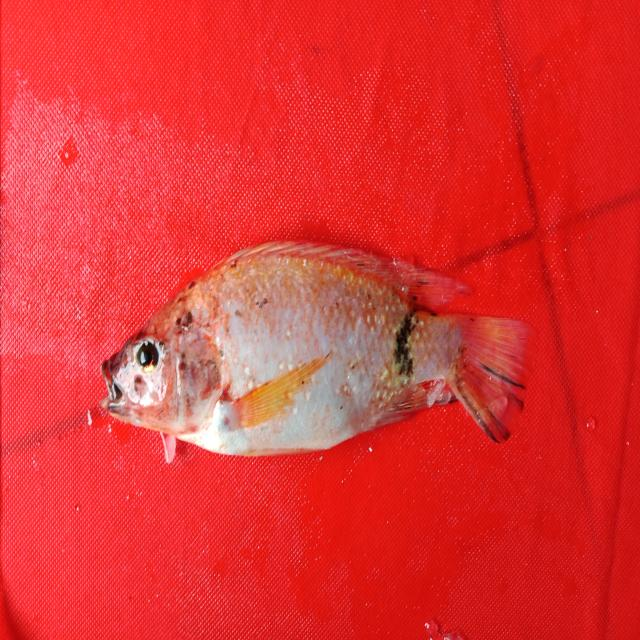ikan: (87, 200, 555, 479)
